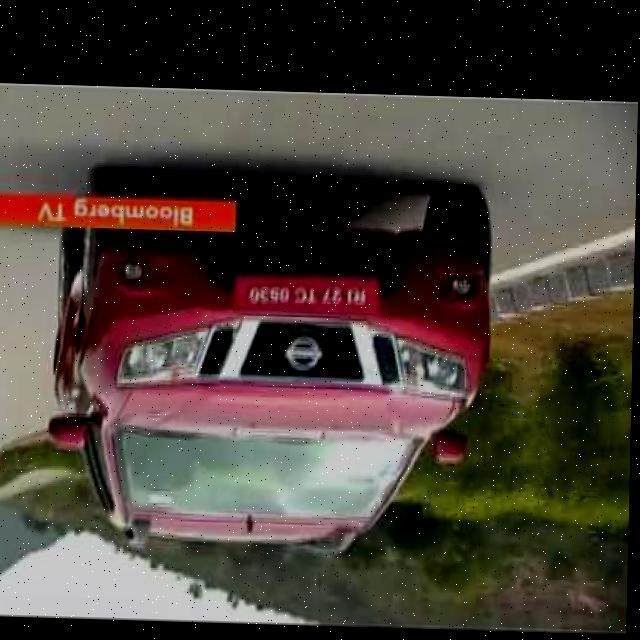plate: (237, 267, 380, 315)
